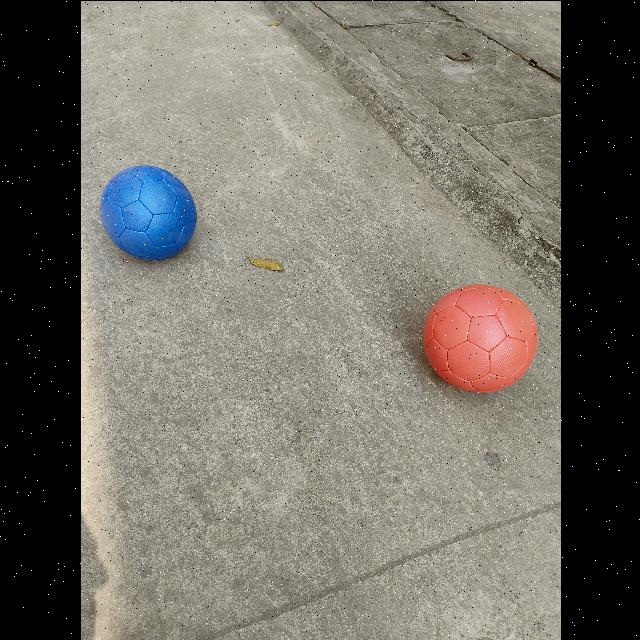B: (98, 165, 196, 263)
R: (422, 285, 538, 395)
